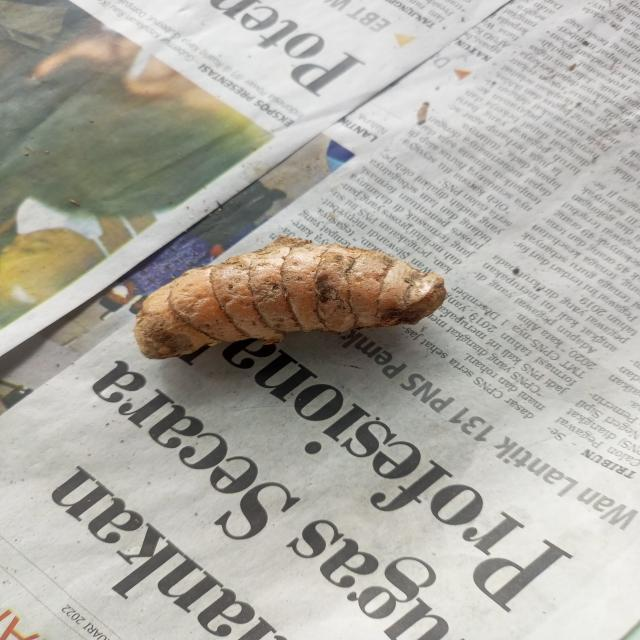ginger: (151, 245, 437, 331)
